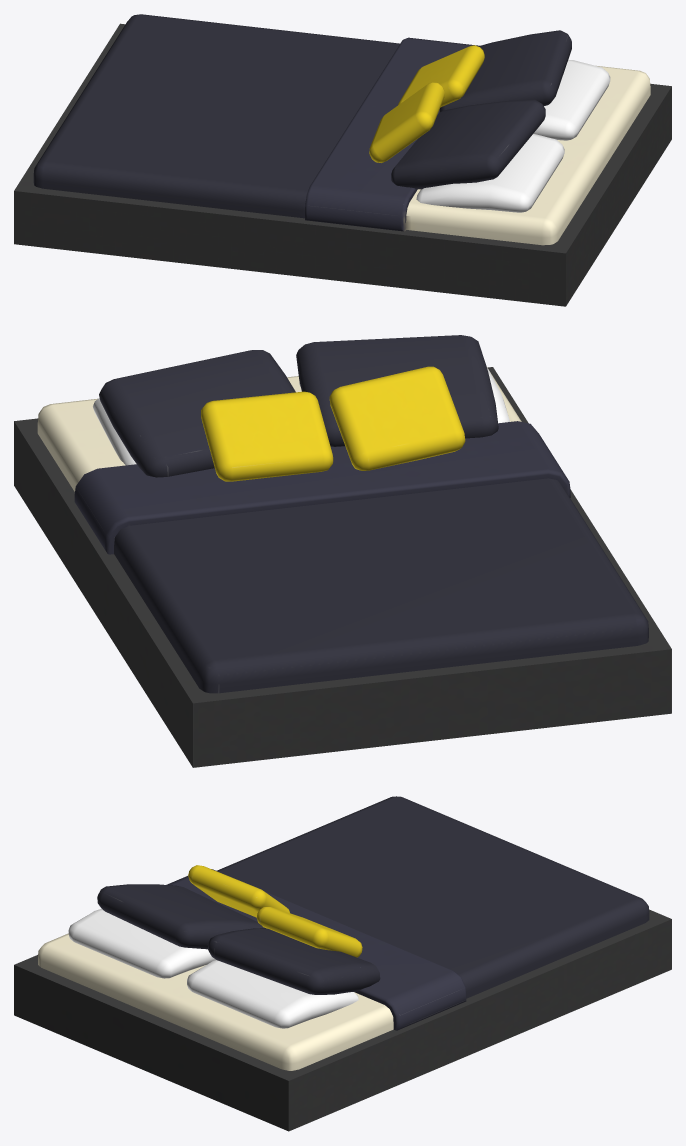
The model's file is Captain_Bed.fbx.
The picture shows the model from 3 angles, top to bottom: view 1: azimuth 30°, elevation 25°; view 2: azimuth 150°, elevation 25°; view 3: azimuth 270°, elevation 25°; orthographic projection. The views are drawn at different scales.
Visible parts, largest first — view 1: Captain_Bed; view 2: Captain_Bed; view 3: Captain_Bed.
Part boxes in pixels (x1,y1,x2,y2): Captain_Bed: (14,14,671,306); Captain_Bed: (14,335,671,767); Captain_Bed: (14,796,671,1131).
Size of the model in its own units: 1240 by 266 by 1240.
